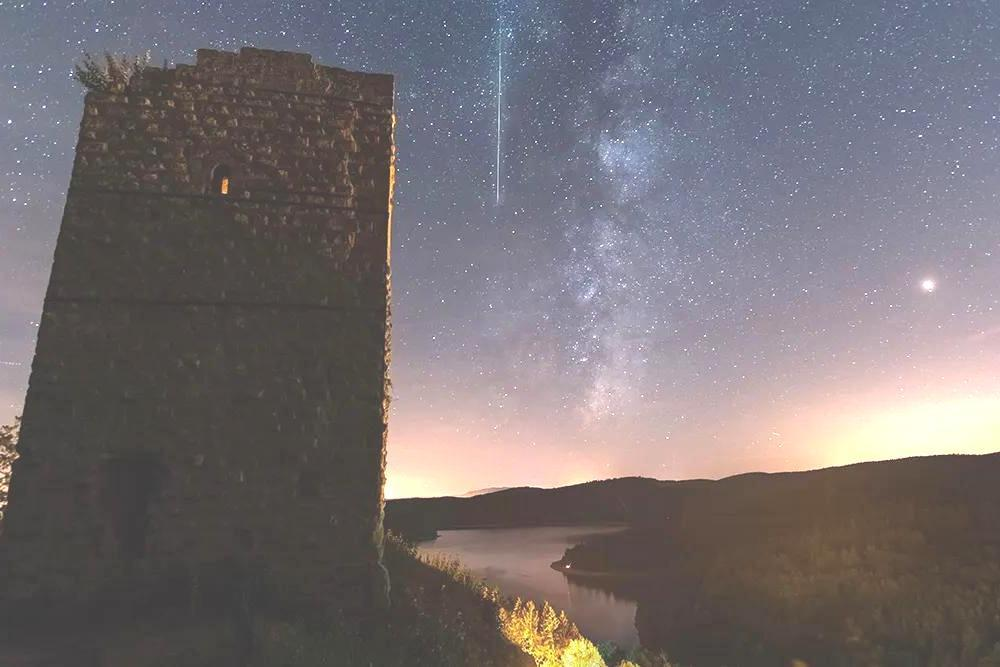meteorite: (480, 36, 518, 210)
